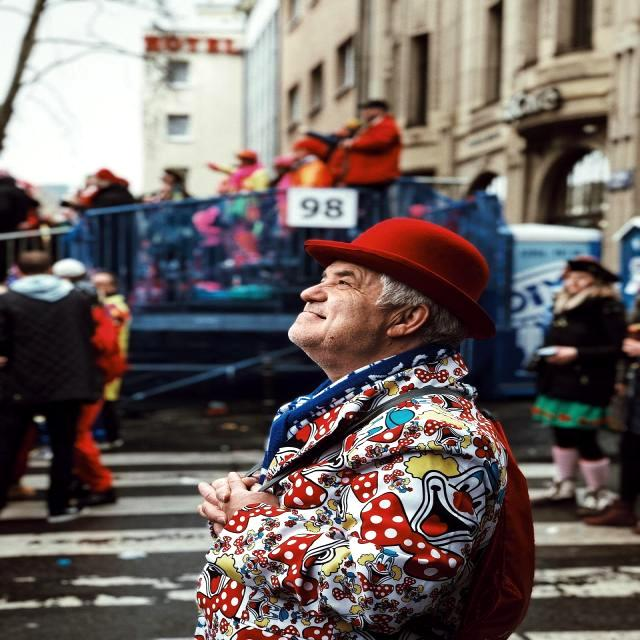no_hard_hat: (305, 218, 495, 339), (567, 256, 619, 285), (53, 258, 86, 278), (294, 137, 327, 154), (359, 99, 390, 112), (164, 168, 188, 182), (275, 154, 295, 162), (239, 148, 257, 152)
no_head_wear: (17, 250, 50, 273), (94, 168, 127, 184), (93, 271, 119, 284)
person: (195, 218, 534, 640), (0, 250, 103, 523), (532, 257, 625, 514), (53, 258, 125, 506), (147, 166, 210, 311), (331, 100, 401, 230), (75, 169, 135, 279), (93, 272, 130, 402), (209, 148, 269, 194), (292, 136, 332, 186), (269, 156, 295, 228)
